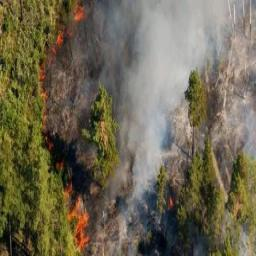Low smoke: (96, 0, 223, 204)
Small fire: (65, 184, 95, 253), (36, 60, 51, 132), (53, 30, 71, 53), (70, 6, 88, 24)
